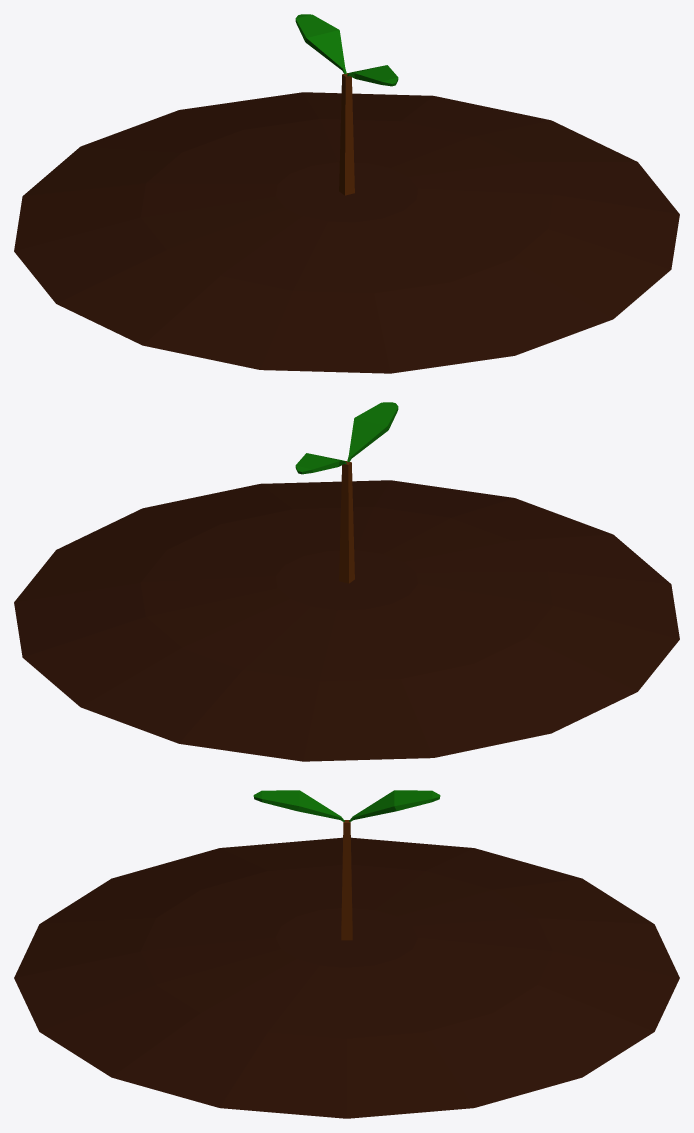
Rendered from TreeStage1.glb.
The picture shows the model from 3 angles, top to bottom: view 1: azimuth 30°, elevation 25°; view 2: azimuth 150°, elevation 25°; view 3: azimuth 270°, elevation 25°; orthographic projection.
Parts seen in each view (by area): view 1: Cone, Cube; view 2: Cone, Cube; view 3: Cone, Cube.
Part boxes in pixels (box(x1,y1,x2,y2)): Cone: box(14, 92, 679, 373); Cube: box(295, 14, 398, 195); Cone: box(14, 480, 679, 761); Cube: box(295, 402, 398, 583); Cone: box(14, 837, 679, 1118); Cube: box(253, 790, 440, 940).
Bounding box in the file's own units: 0.9353 × 0.284 × 0.9353.
